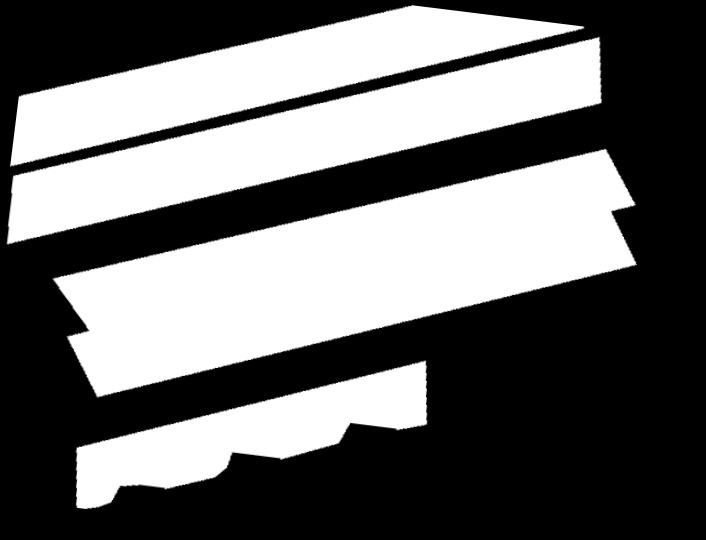parkingspot: (53, 149, 637, 397), (7, 37, 602, 244), (10, 5, 584, 167), (76, 361, 427, 509)
